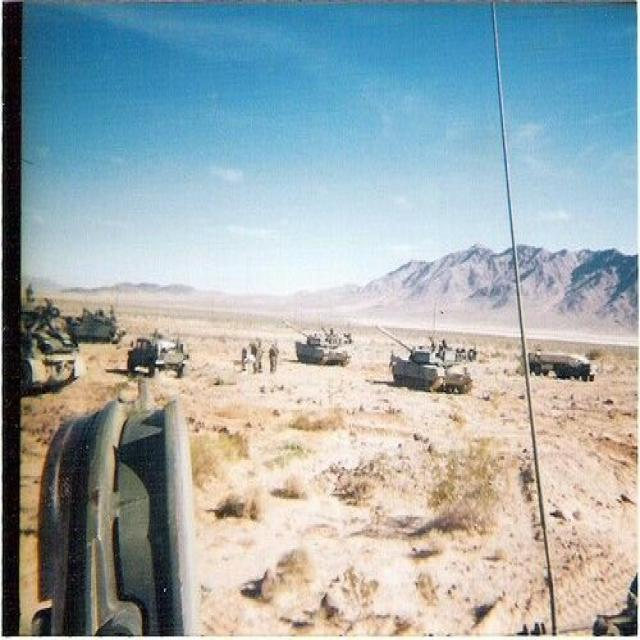tank: (373, 316, 479, 402), (281, 314, 353, 367)
